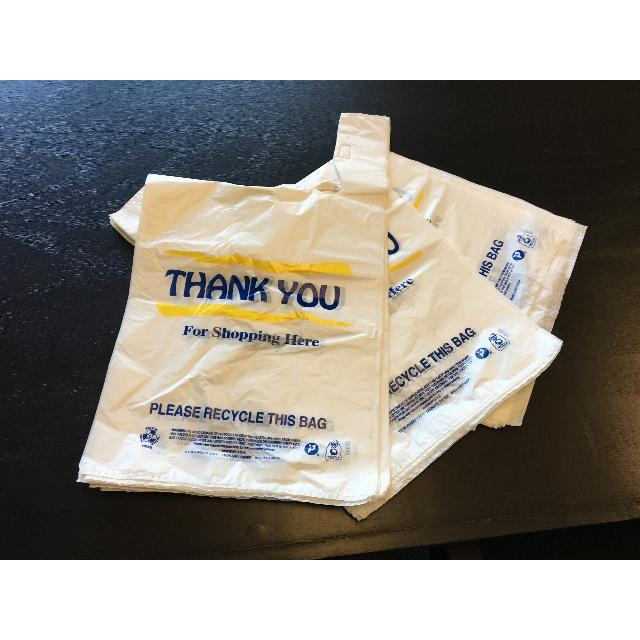plastic: (80, 114, 583, 519)
